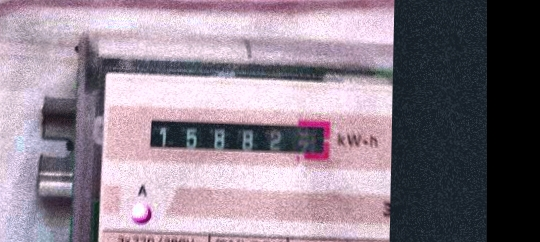1: (155, 124, 170, 146)
2: (266, 128, 283, 153)
5: (183, 125, 198, 150)
7: (296, 136, 308, 153)
8: (239, 128, 254, 152), (211, 127, 225, 150)
screen: (140, 110, 338, 169)
